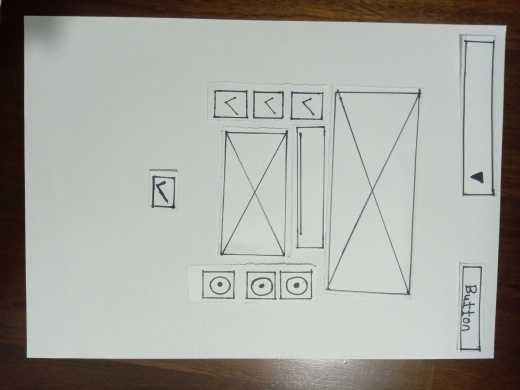button: (461, 265, 484, 350)
checkbox: (150, 174, 177, 208), (293, 92, 321, 120), (216, 89, 244, 117), (253, 88, 281, 116)
dropdown: (460, 40, 498, 194)
img: (325, 90, 414, 292), (225, 132, 285, 254)
radio: (280, 274, 312, 301), (245, 272, 277, 299), (202, 270, 234, 297)
